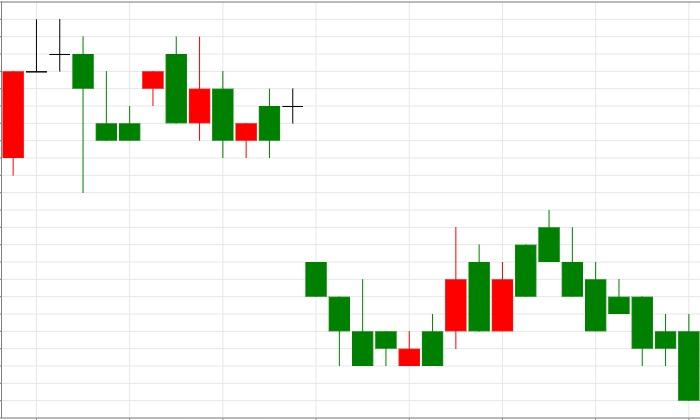inverse_hammer_rise: (283, 88, 373, 366)
